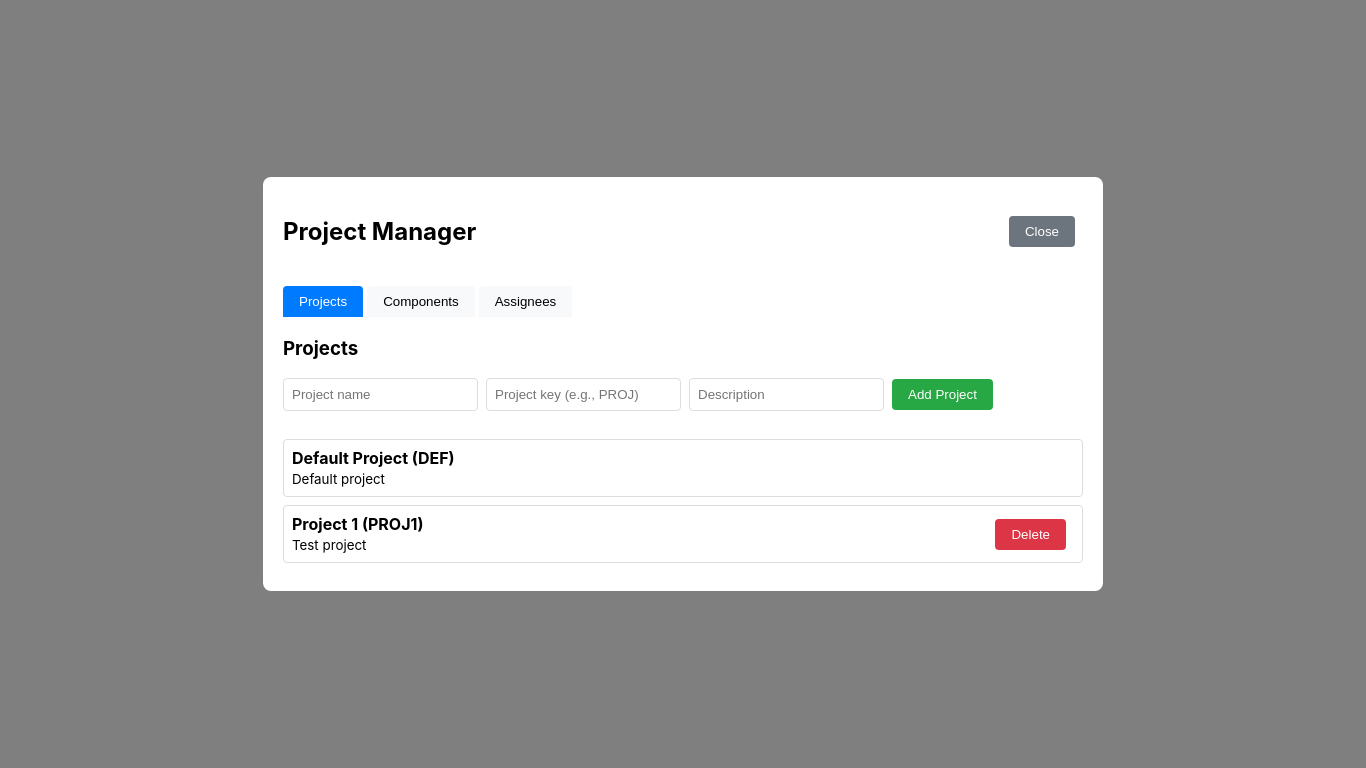
it: ProjectManager Component › prevents deletion of unassigned assignee
Switch to assignees tab
Click the button "Assignees": (525, 301) x1=479 y1=286 x2=572 y2=316
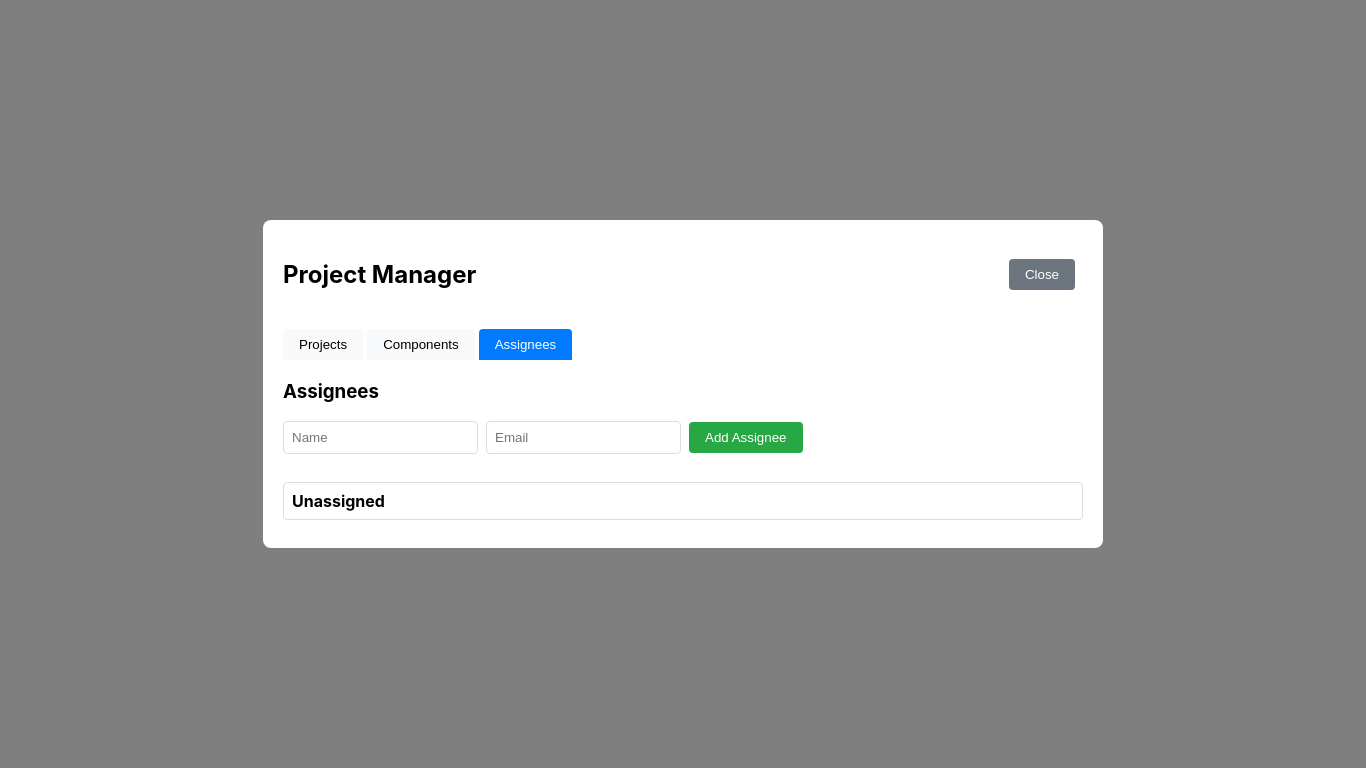
Result: the button "Delete" is gone
